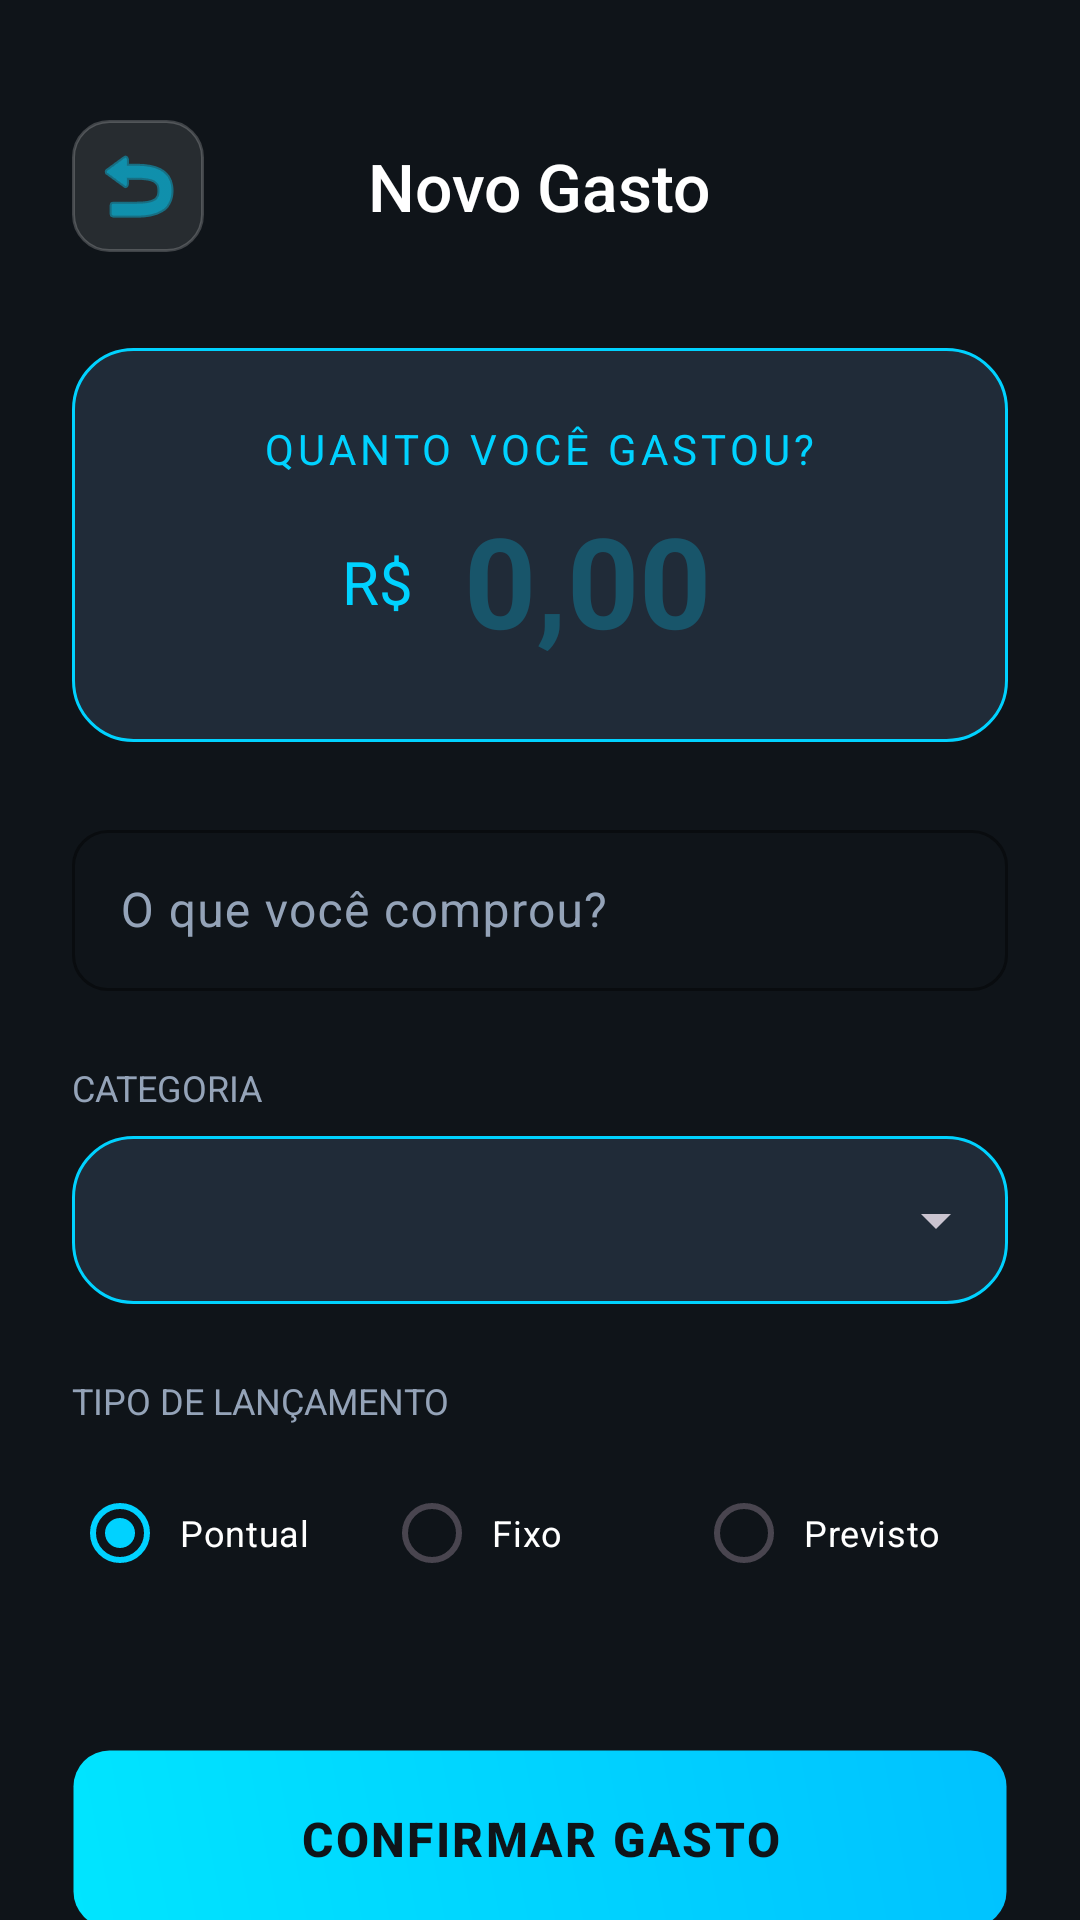

Named icons in this screenshot (1080x1920) and their centers, [x,y]:
revert: [138,186]
